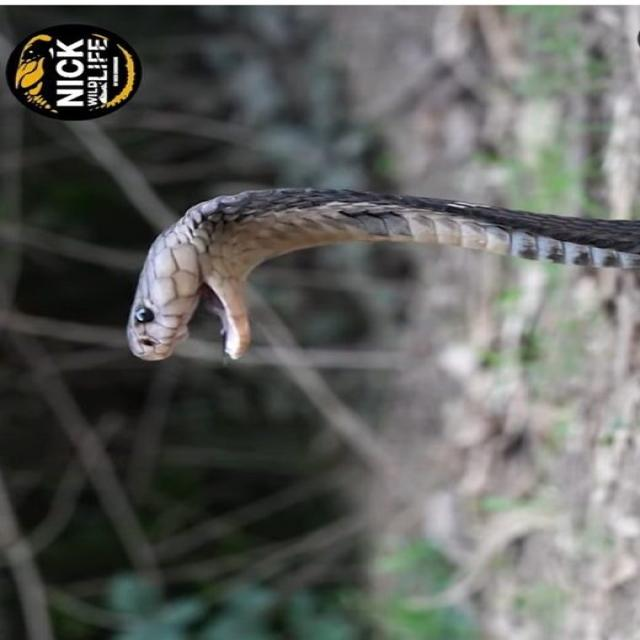Venomous: (107, 167, 414, 380)
